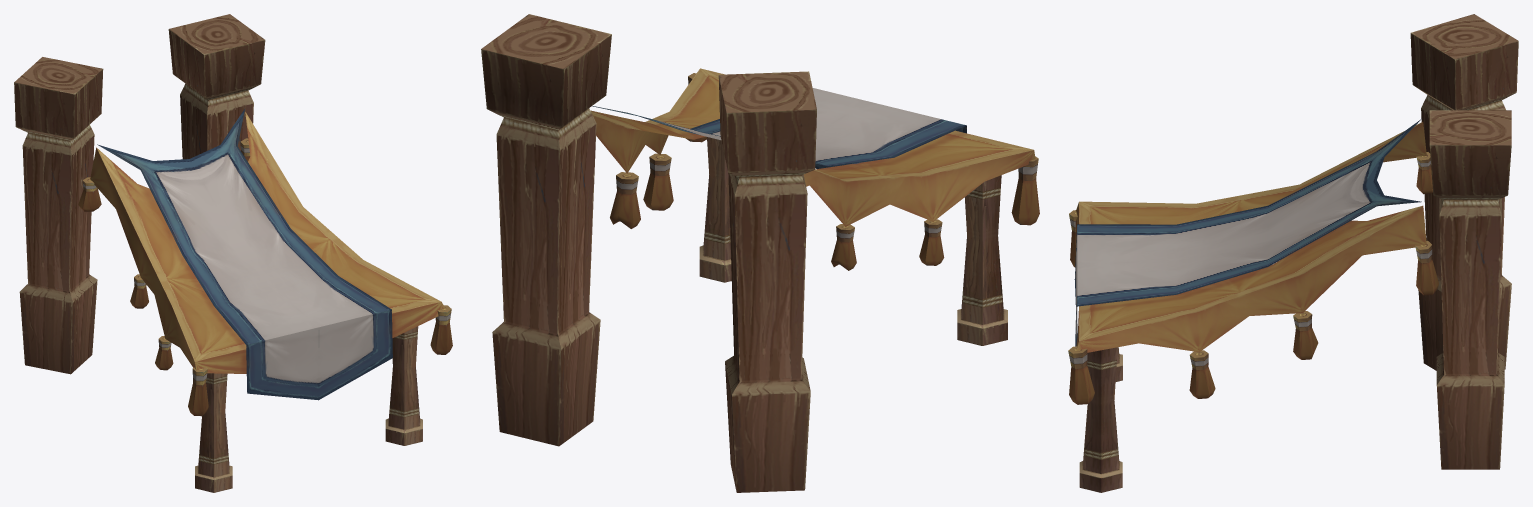
Rendered from Map_11_tent06.FBX.
The picture shows the model from 3 angles, left to right: view 1: azimuth 30°, elevation 25°; view 2: azimuth 150°, elevation 25°; view 3: azimuth 270°, elevation 25°; orthographic projection. The views are drawn at different scales.
Visible parts, largest first — view 1: Map_11_tent06; view 2: Map_11_tent06; view 3: Map_11_tent06.
Part boxes in pixels (x1,y1,x2,y2): Map_11_tent06: (14, 14, 452, 492); Map_11_tent06: (481, 14, 1039, 492); Map_11_tent06: (1068, 14, 1518, 492).
Size of the model in its own units: 320 by 404 by 336.
